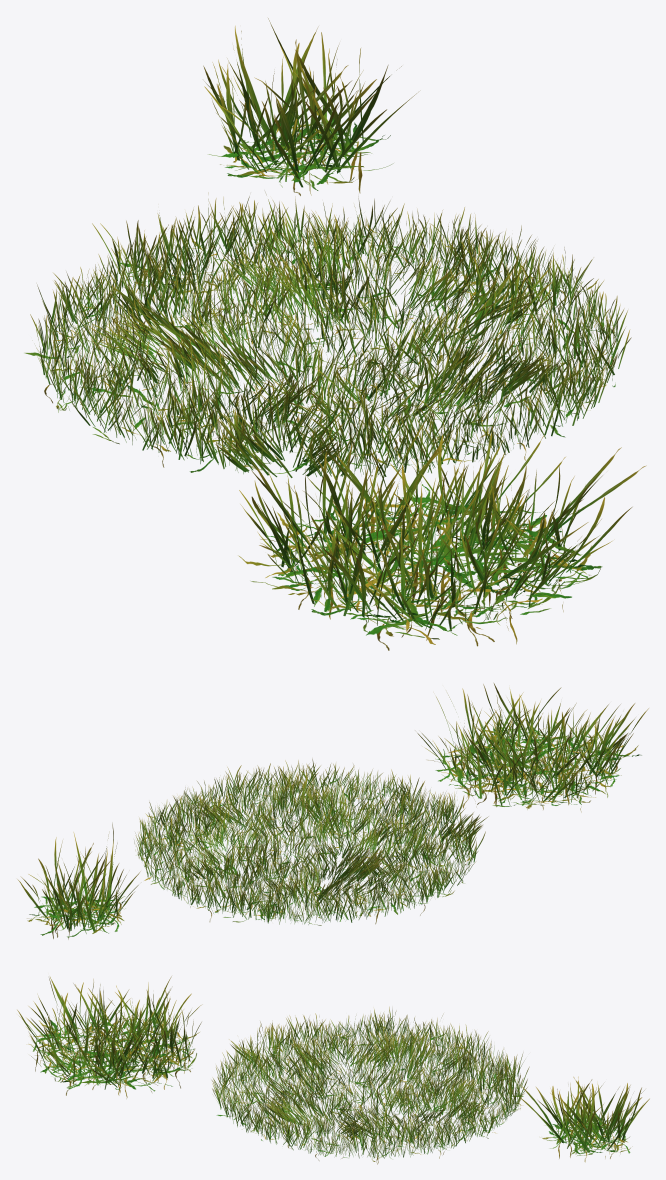
Rendered from grass_patches_-_circle.glb.
3 renders of one model, top to bottom at view 1: azimuth 30°, elevation 25°; view 2: azimuth 150°, elevation 25°; view 3: azimuth 270°, elevation 25°, orthographic. The views are drawn at different scales.
Parts seen in each view (by area): view 1: GrassEmitterCircleMesh.004|BR_MainGrass_Diff.071|Dupli|117_B (×4); view 2: GrassEmitterCircleMesh.004|BR_MainGrass_Diff.071|Dupli|117_B (×4); view 3: GrassEmitterCircleMesh.004|BR_MainGrass_Diff.071|Dupli|117_B (×4).
Boxes of the visible parts, left/top/right/bottom form: GrassEmitterCircleMesh.004|BR_MainGrass_Diff.071|Dupli|117_B (×4): left=25, top=18, right=646, bottom=650; GrassEmitterCircleMesh.004|BR_MainGrass_Diff.071|Dupli|117_B (×4): left=17, top=683, right=648, bottom=939; GrassEmitterCircleMesh.004|BR_MainGrass_Diff.071|Dupli|117_B (×4): left=17, top=976, right=649, bottom=1164.
Bounding box in the file's own units: 11.17 × 2.88 × 20.39.
1 material, 1 textured.
